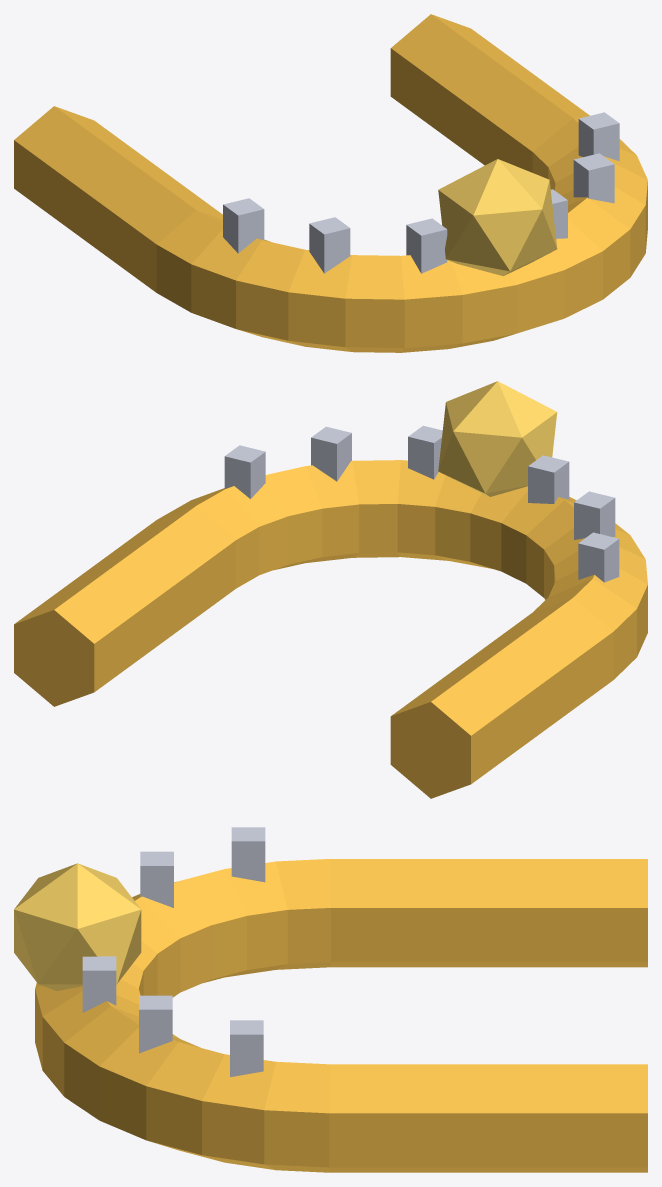
File: TrophySteed.obj
3 renders of one model, top to bottom at view 1: azimuth 30°, elevation 25°; view 2: azimuth 150°, elevation 25°; view 3: azimuth 270°, elevation 25°, orthographic. The views are drawn at different scales.
Visible parts, largest first — view 1: TrophySteed; view 2: TrophySteed; view 3: TrophySteed.
Boxes of the visible parts, bbox=[...] form: TrophySteed: bbox=[14, 14, 647, 352]; TrophySteed: bbox=[14, 381, 647, 798]; TrophySteed: bbox=[14, 827, 647, 1172].
Bounding box in the file's own units: 0.3154 × 0.122 × 0.339.
